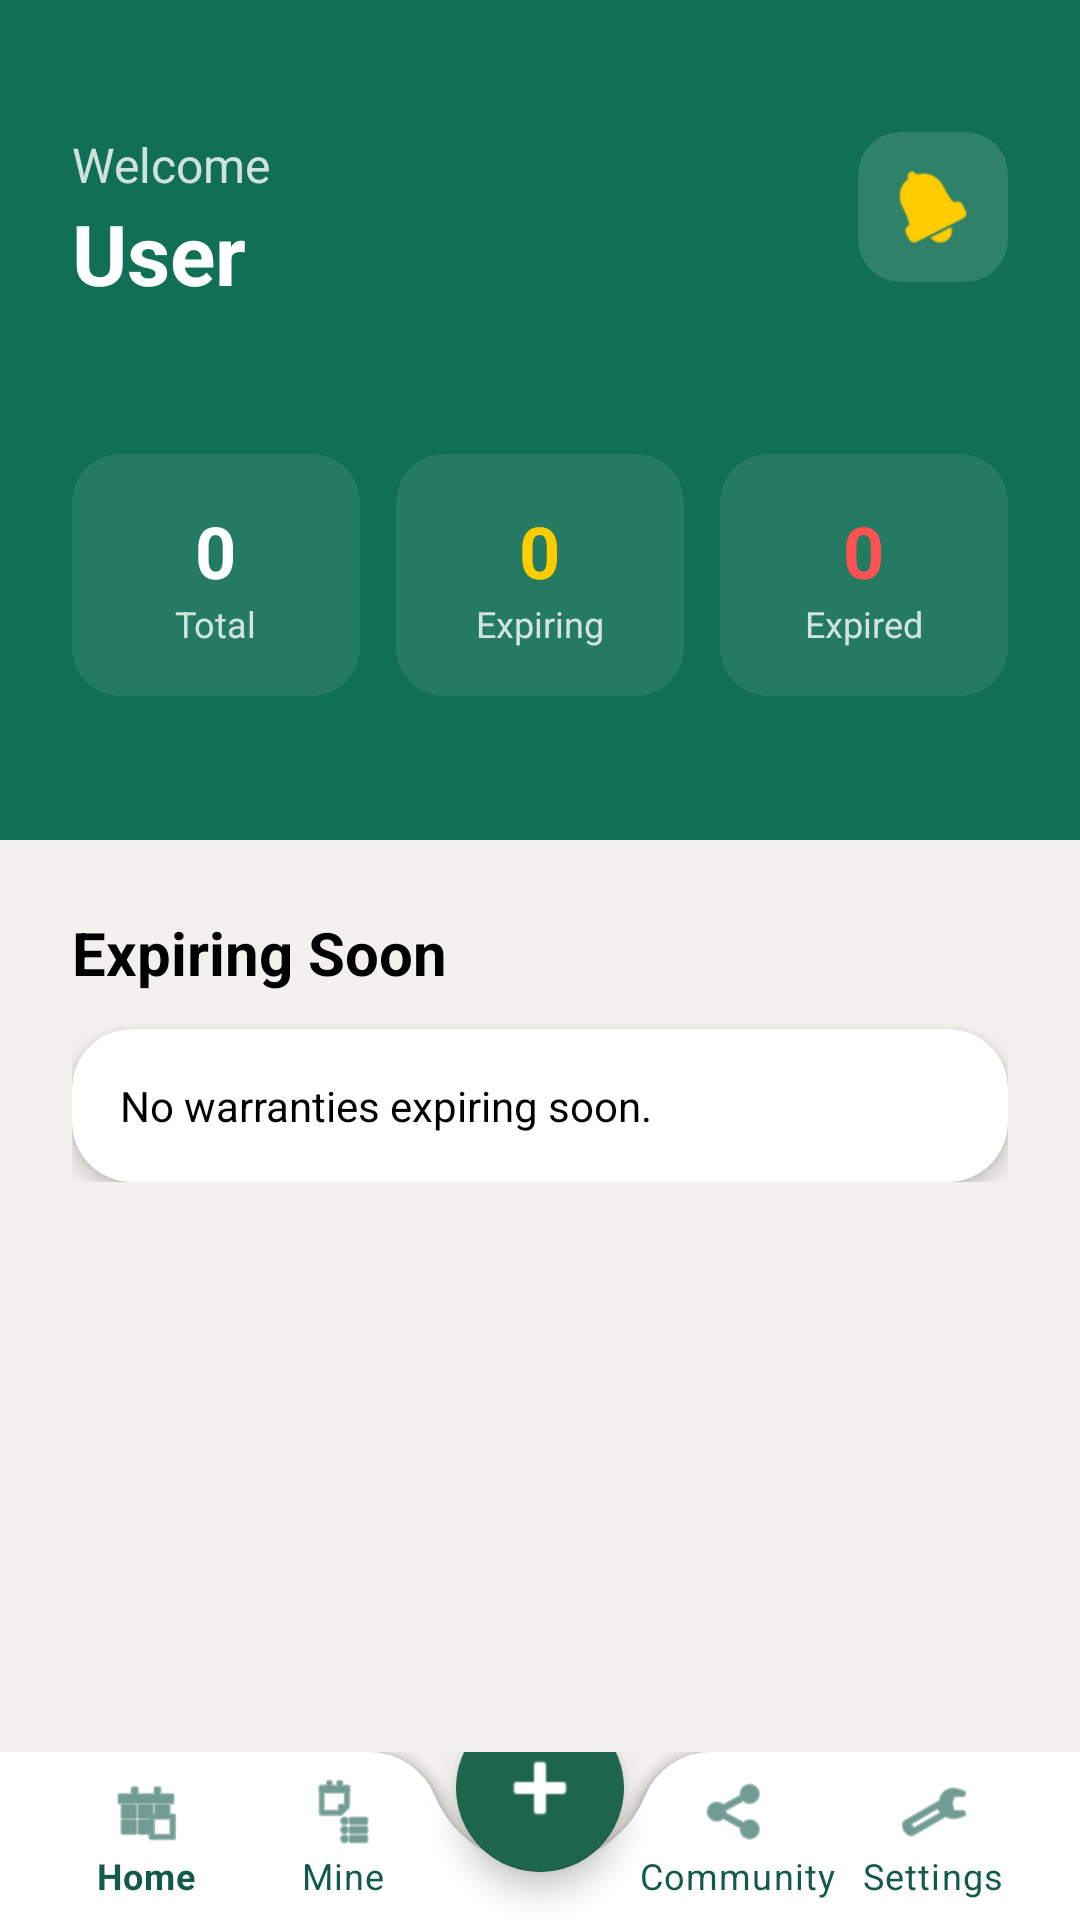

Named icons in this screenshot (1080px x 1920px) and their bounding boxes, (x1, y1, x2, y2):
popup reminder: (899, 171, 967, 243)
